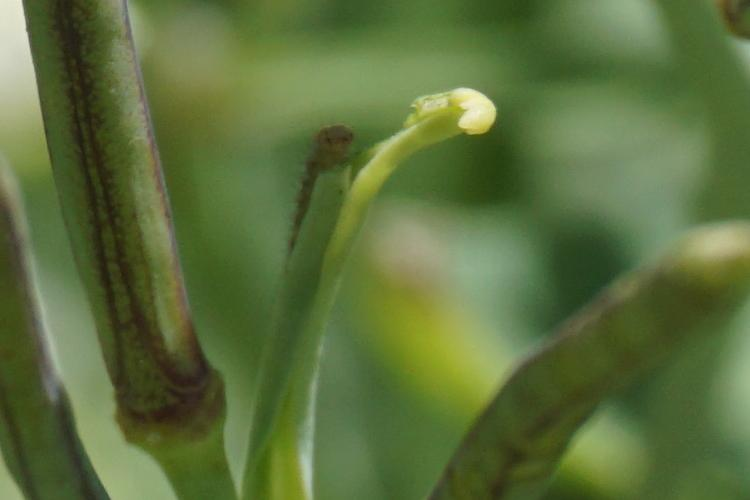pod: (437, 199, 731, 500), (42, 19, 212, 459)
